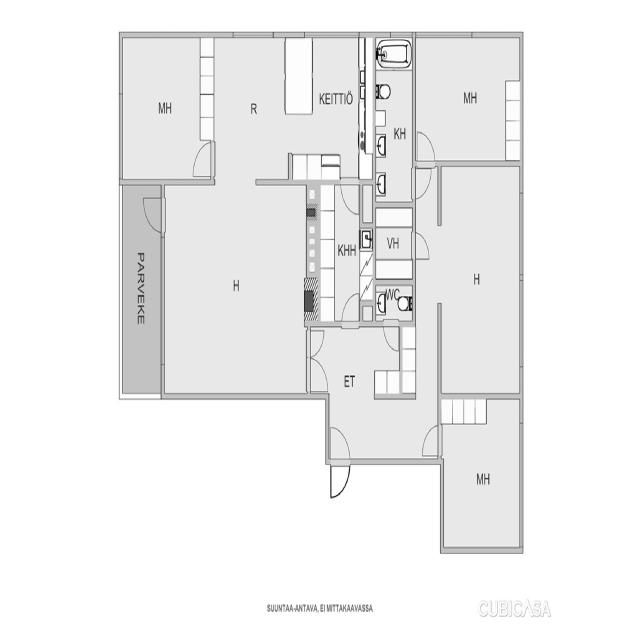door: (304, 324, 333, 392), (326, 421, 351, 497), (414, 420, 444, 466), (138, 192, 166, 238), (334, 177, 364, 219), (413, 123, 438, 167), (189, 141, 215, 181), (343, 276, 363, 324), (410, 163, 432, 197), (382, 315, 400, 354), (412, 230, 430, 260)
window: (514, 177, 530, 373), (384, 26, 474, 43), (157, 235, 168, 369), (515, 416, 525, 555), (223, 26, 282, 45), (114, 82, 125, 180), (298, 27, 359, 43)
zone: (163, 180, 310, 391), (437, 162, 522, 397), (410, 30, 522, 169), (117, 35, 214, 183), (287, 29, 372, 183), (439, 396, 522, 553), (212, 34, 290, 182), (307, 181, 373, 325), (372, 29, 413, 206), (306, 327, 402, 391), (372, 202, 416, 284), (374, 284, 412, 322)
